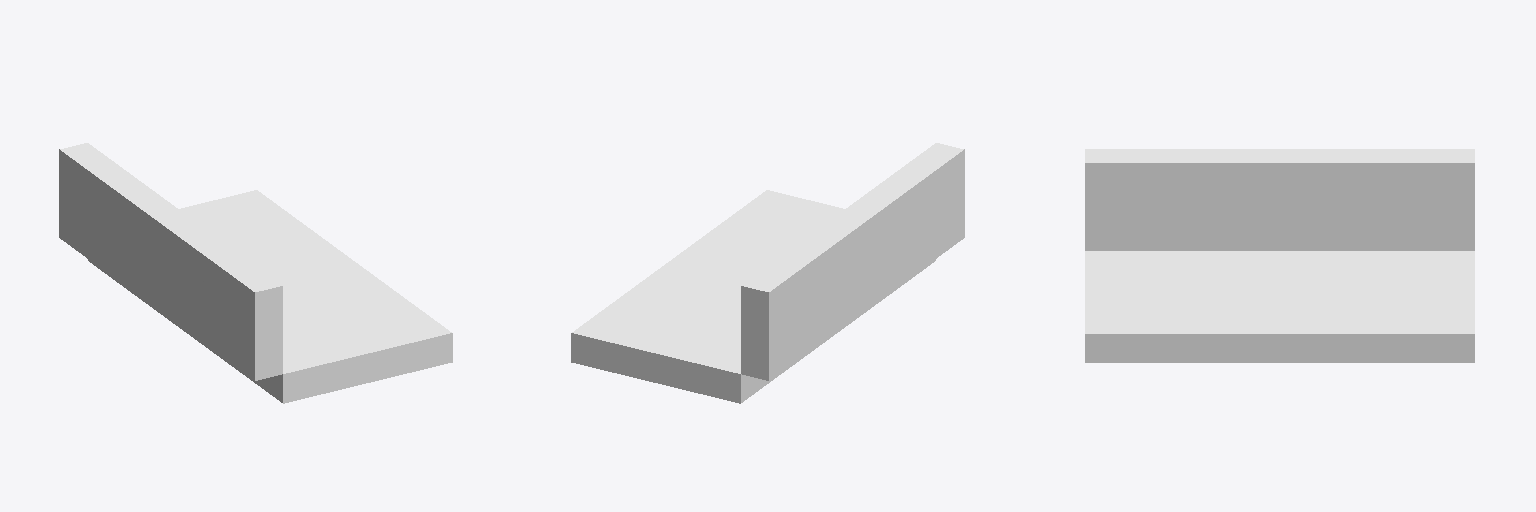
Rendered from order12.vox.obj.
3 views of the same model, side by side, from view 1: azimuth 30°, elevation 25°; view 2: azimuth 150°, elevation 25°; view 3: azimuth 270°, elevation 25° (orthographic).
Visible parts, largest first — view 1: object 1; view 2: object 1; view 3: object 1.
Boxes of the visible parts, x1=… form: object 1: x1=59, y1=143, x2=452, y2=403; object 1: x1=571, y1=143, x2=964, y2=403; object 1: x1=1085, y1=149, x2=1474, y2=362.
Bounding box in the file's own units: 14 × 8 × 24.